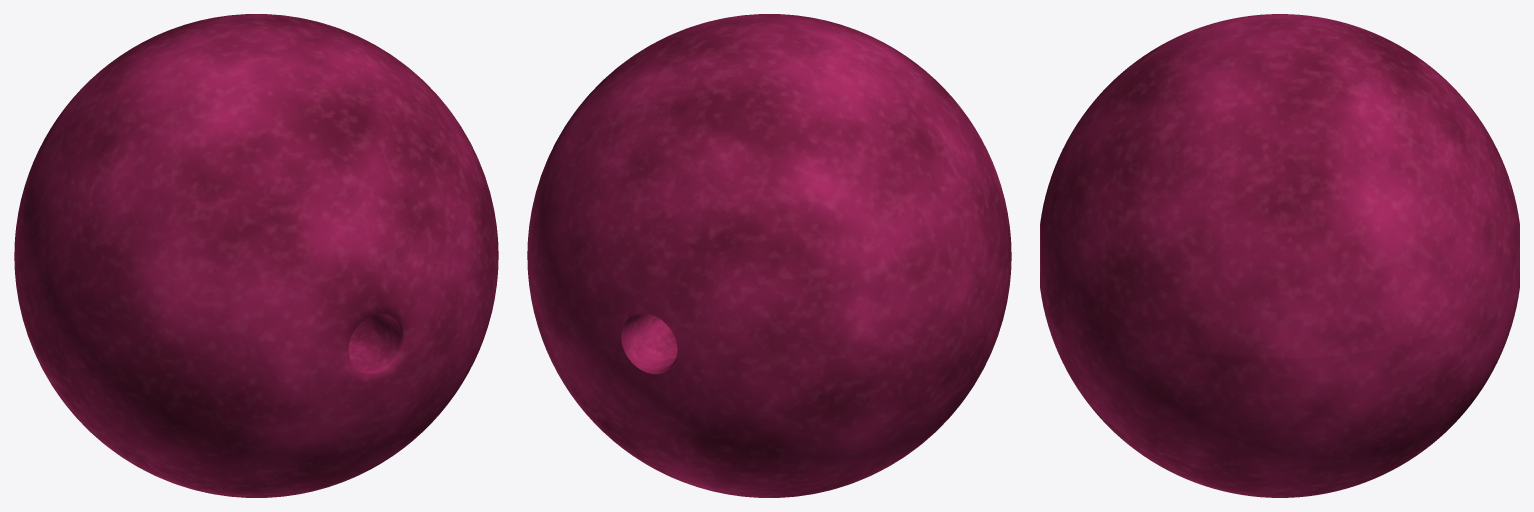
The model's file is ruby.glb.
The picture shows the model from 3 angles, left to right: view 1: azimuth 30°, elevation 25°; view 2: azimuth 150°, elevation 25°; view 3: azimuth 270°, elevation 25°; orthographic projection.
Parts seen in each view (by area): view 1: ruby.001; view 2: ruby.001; view 3: ruby.001.
Part boxes in pixels (x1,y1,x2,y2): ruby.001: [14, 14, 498, 497]; ruby.001: [527, 14, 1011, 497]; ruby.001: [1040, 14, 1519, 497].
Size of the model in its own units: 0.008 by 0.008 by 0.00793.
2 materials, 1 textured.
